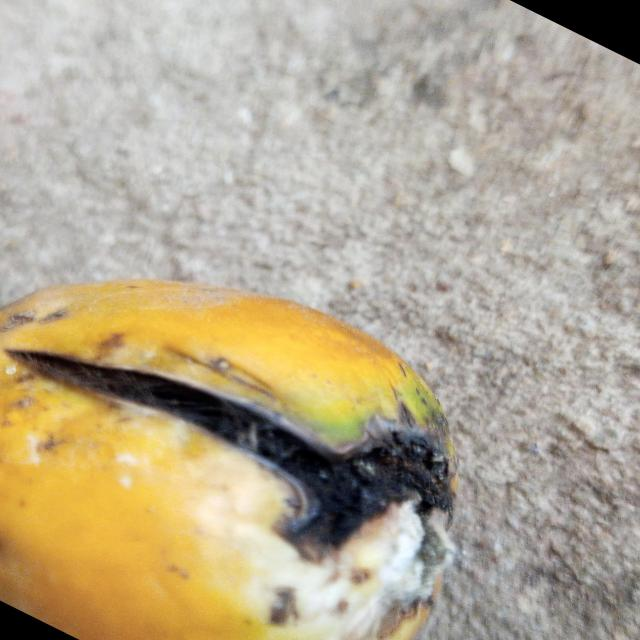damaged: (0, 280, 454, 640)
